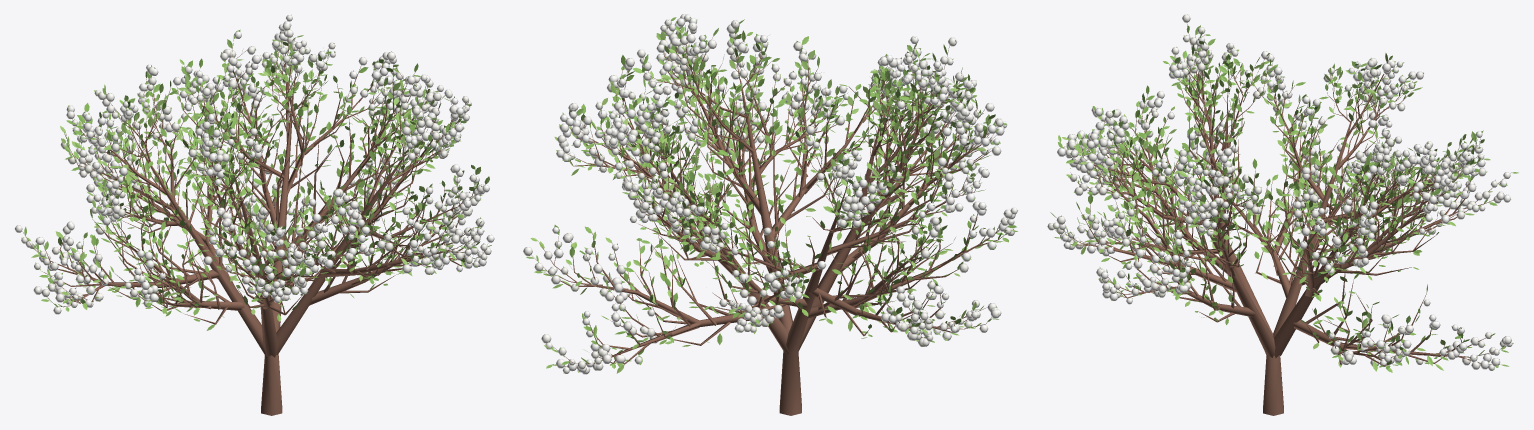
The model's file is cerisier_printemps.glb.
3 renders of one model, left to right at view 1: azimuth 30°, elevation 25°; view 2: azimuth 150°, elevation 25°; view 3: azimuth 270°, elevation 25°, orthographic. The views are drawn at different scales.
Parts seen in each view (by area): view 1: Cerisier_Tronc, Cerisier_Fleurs, Cerisier_Feuillage; view 2: Cerisier_Tronc, Cerisier_Fleurs, Cerisier_Feuillage; view 3: Cerisier_Tronc, Cerisier_Fleurs, Cerisier_Feuillage.
Boxes of the visible parts, x1,y1,x2,y2 form: Cerisier_Tronc: [22, 30, 487, 415]; Cerisier_Fleurs: [15, 15, 494, 314]; Cerisier_Feuillage: [21, 29, 491, 330]; Cerisier_Tronc: [531, 27, 1007, 415]; Cerisier_Fleurs: [523, 14, 1017, 374]; Cerisier_Feuillage: [526, 17, 1017, 373]; Cerisier_Tronc: [1055, 24, 1510, 415]; Cerisier_Fleurs: [1047, 14, 1512, 370]; Cerisier_Feuillage: [1050, 14, 1518, 372].
Size of the model in its own units: 5.8 by 4.74 by 5.91.
